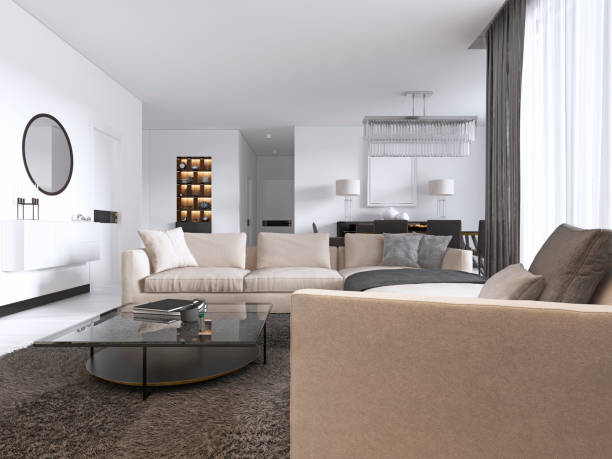sofa: (117, 227, 482, 312)
table: (31, 298, 274, 401)
table lamp: (334, 176, 363, 222), (425, 175, 456, 218)
